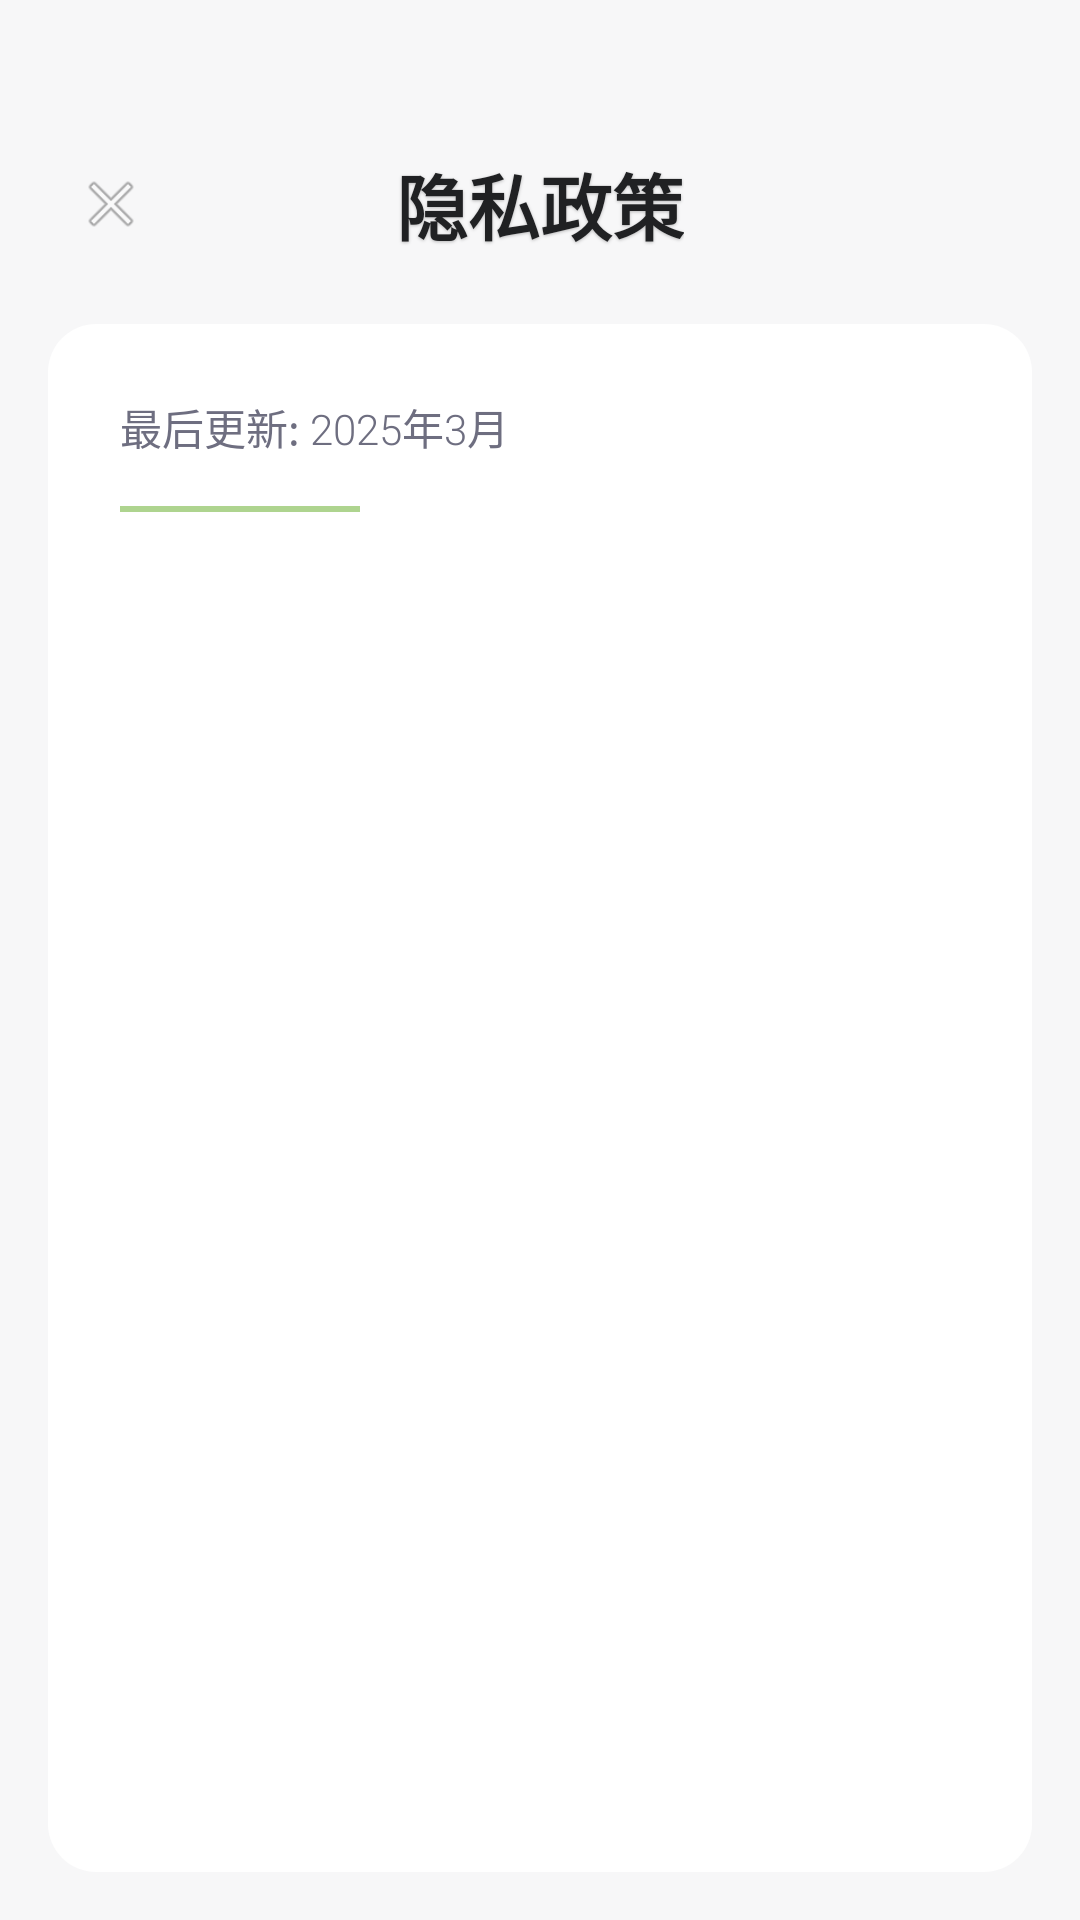

Named icons in this screenshot (1080px x 1920px) and their centers, point (x, y):
返回: point (111, 204)
